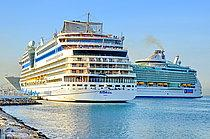Ship: (14, 11, 143, 106)
